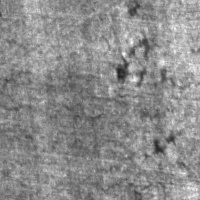crazing: (110, 31, 195, 96)
